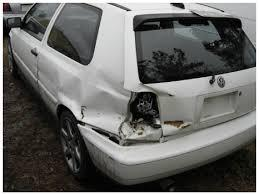Headlight-Damage: (117, 84, 170, 147)
quaterpanel-dent: (59, 68, 119, 136)
